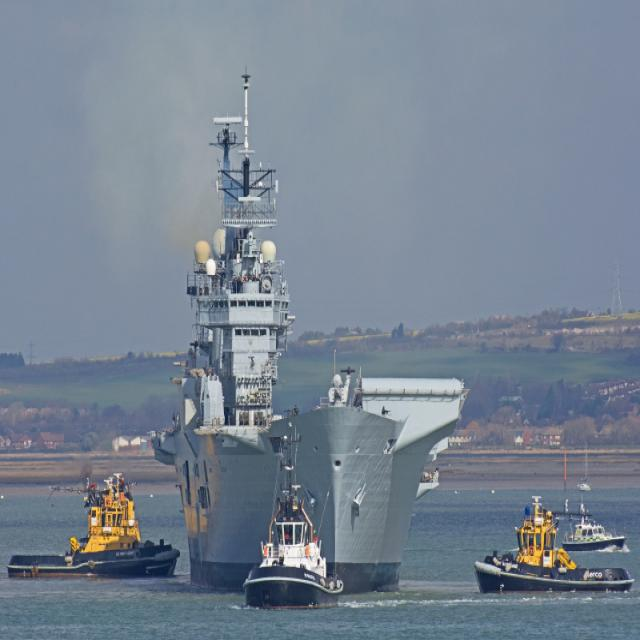Portanaves: (159, 80, 469, 599)
